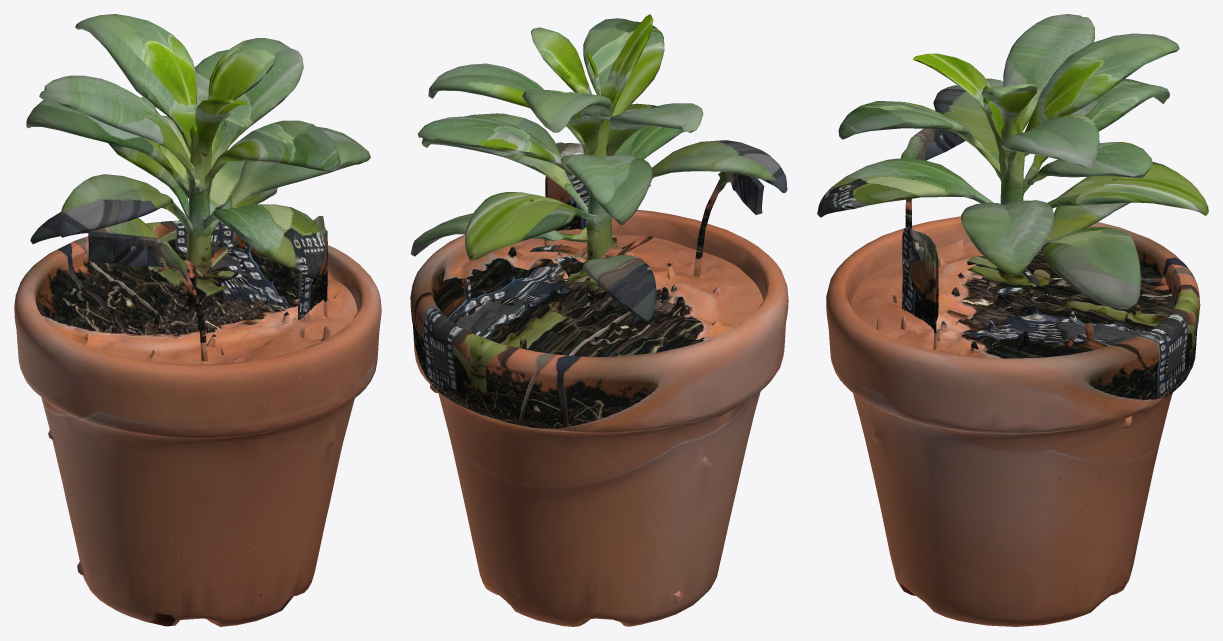
The model's file is vaso-esp32.glb.
The picture shows the model from 3 angles, left to right: view 1: azimuth 30°, elevation 25°; view 2: azimuth 150°, elevation 25°; view 3: azimuth 270°, elevation 25°; orthographic projection. The views are drawn at different scales.
Parts seen in each view (by area): view 1: vaso-esp32; view 2: vaso-esp32; view 3: vaso-esp32.
Boxes of the visible parts, x1,y1,x2,y2 form: vaso-esp32: (14, 14, 381, 626); vaso-esp32: (410, 14, 788, 626); vaso-esp32: (817, 14, 1208, 626).
Bounding box in the file's own units: 0.1841 × 0.28 × 0.1868.
Materials: 1 (1 with a texture image).
